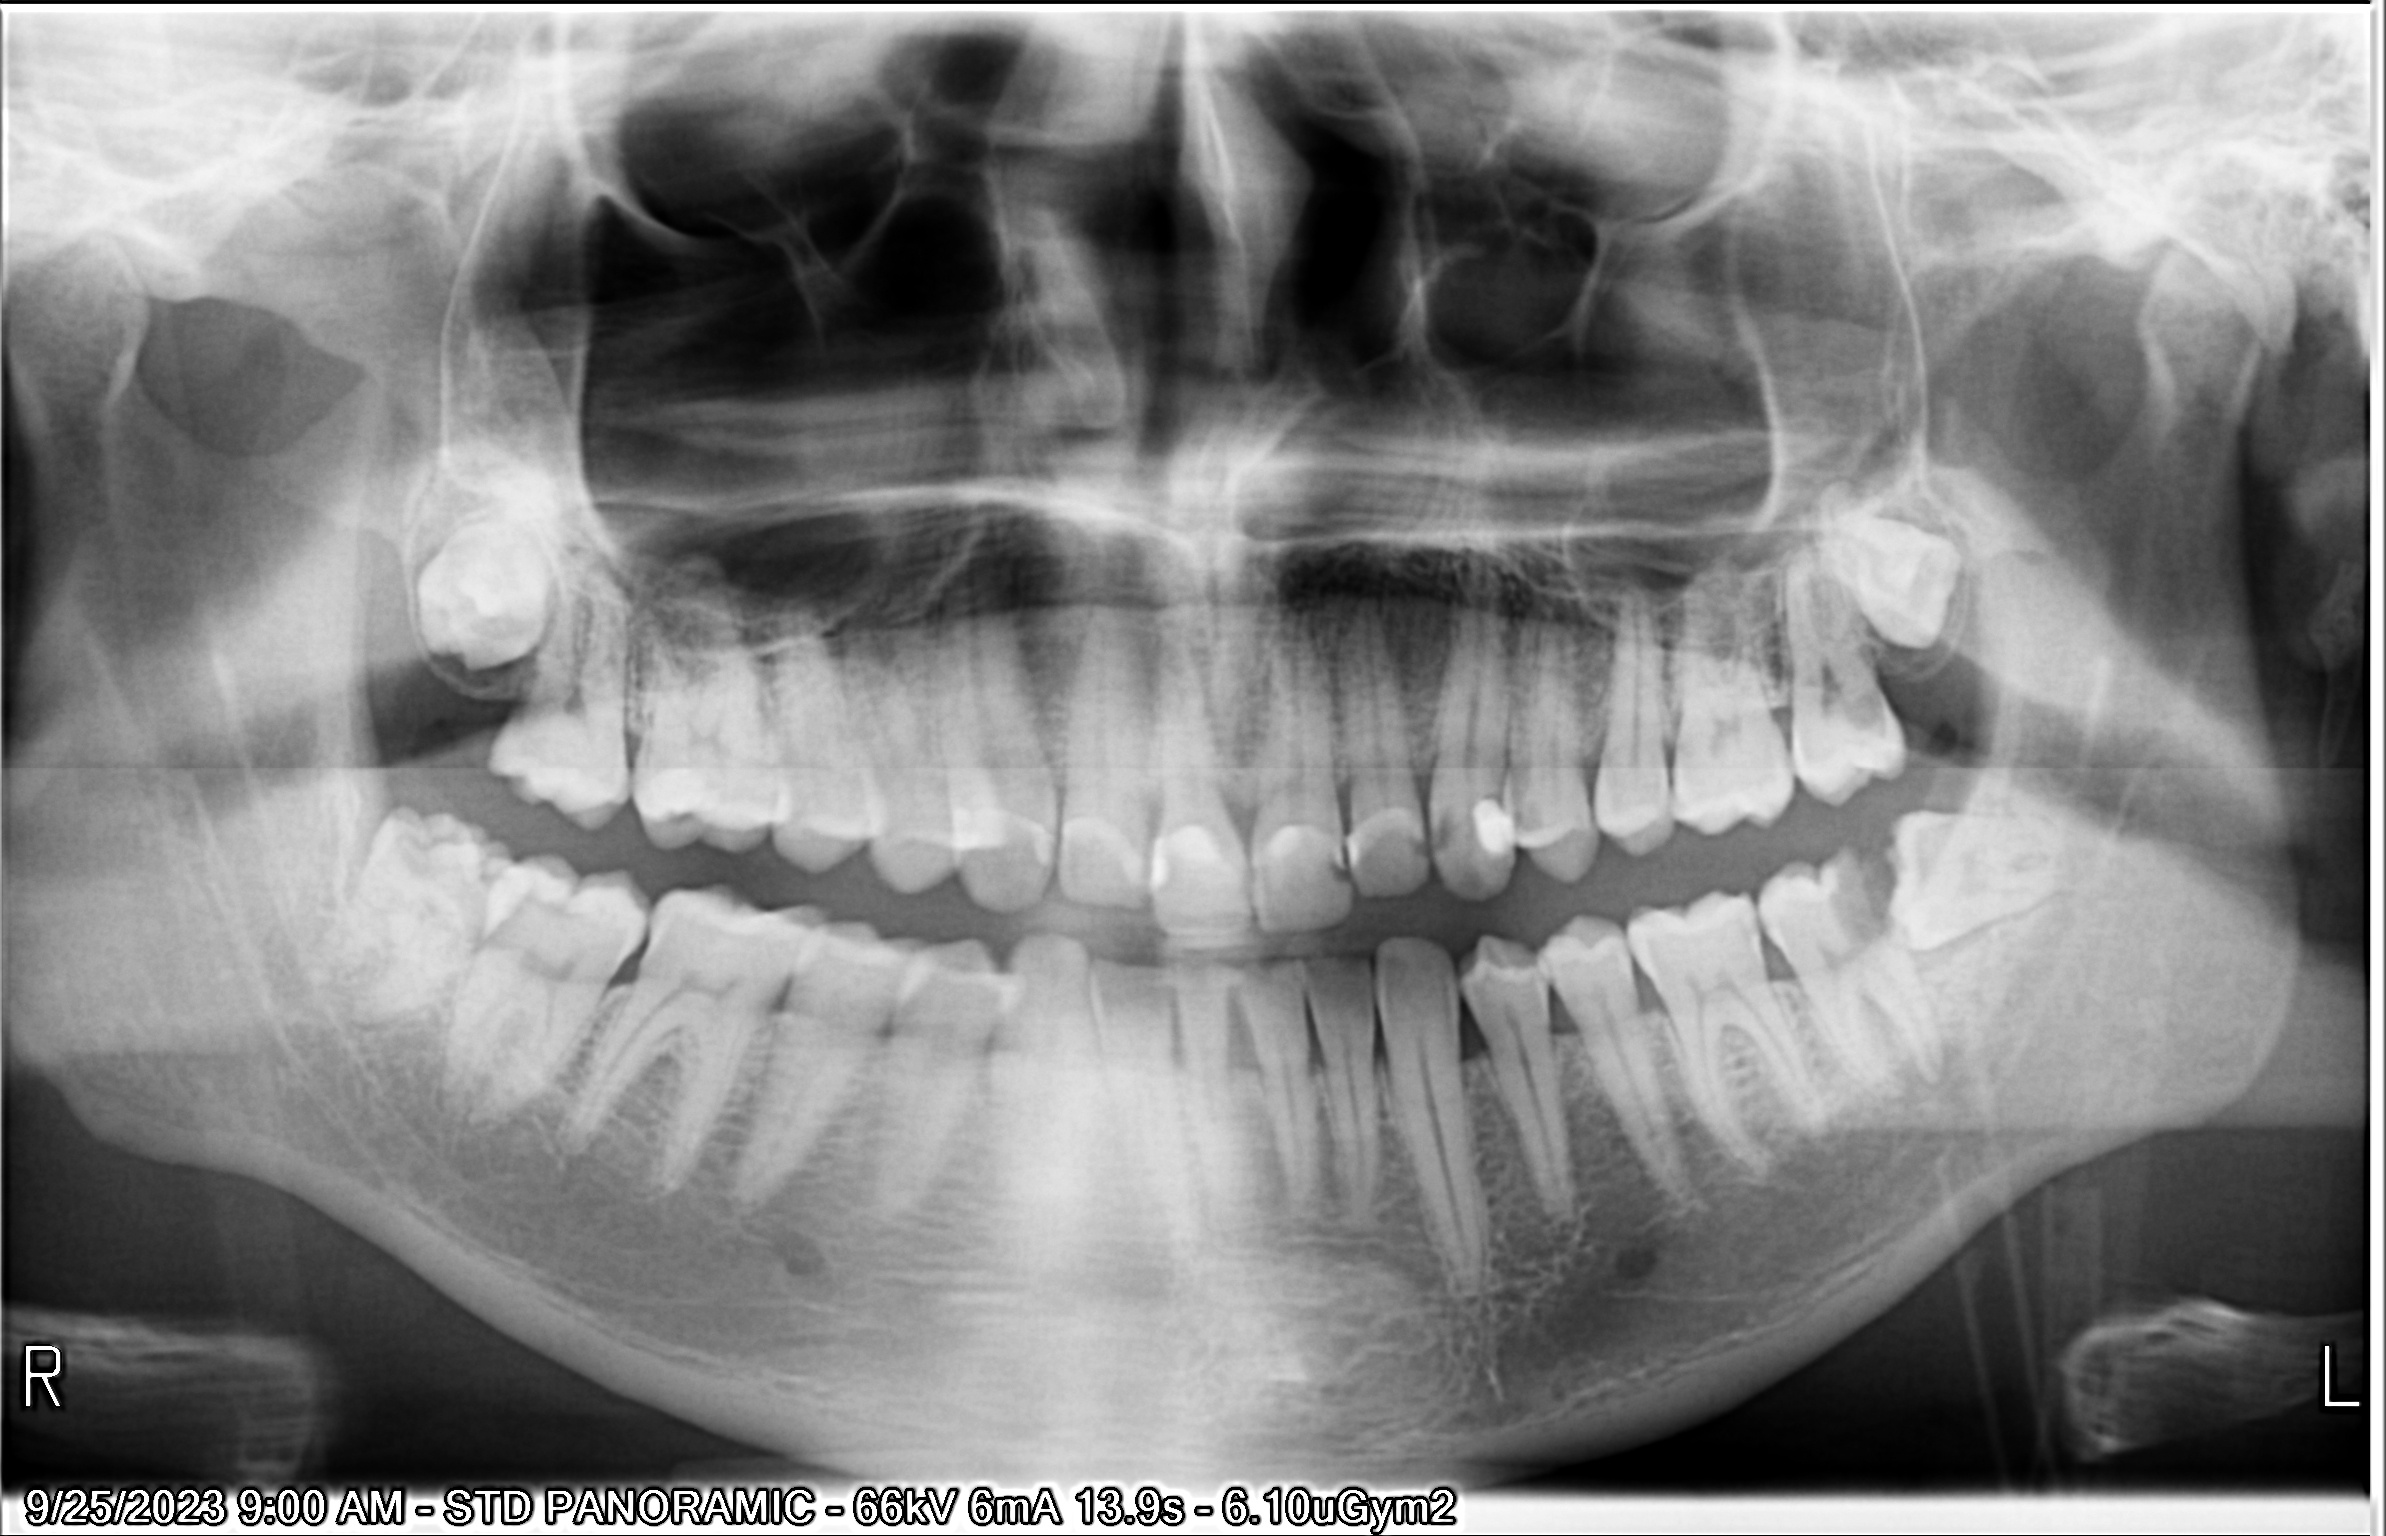CAR: (1817, 828, 1906, 964), (1829, 671, 1896, 748), (1417, 783, 1463, 870), (1316, 844, 1369, 898), (1395, 819, 1431, 859)
IMT: (1859, 793, 2096, 986), (1814, 451, 1986, 685), (391, 491, 581, 698)
